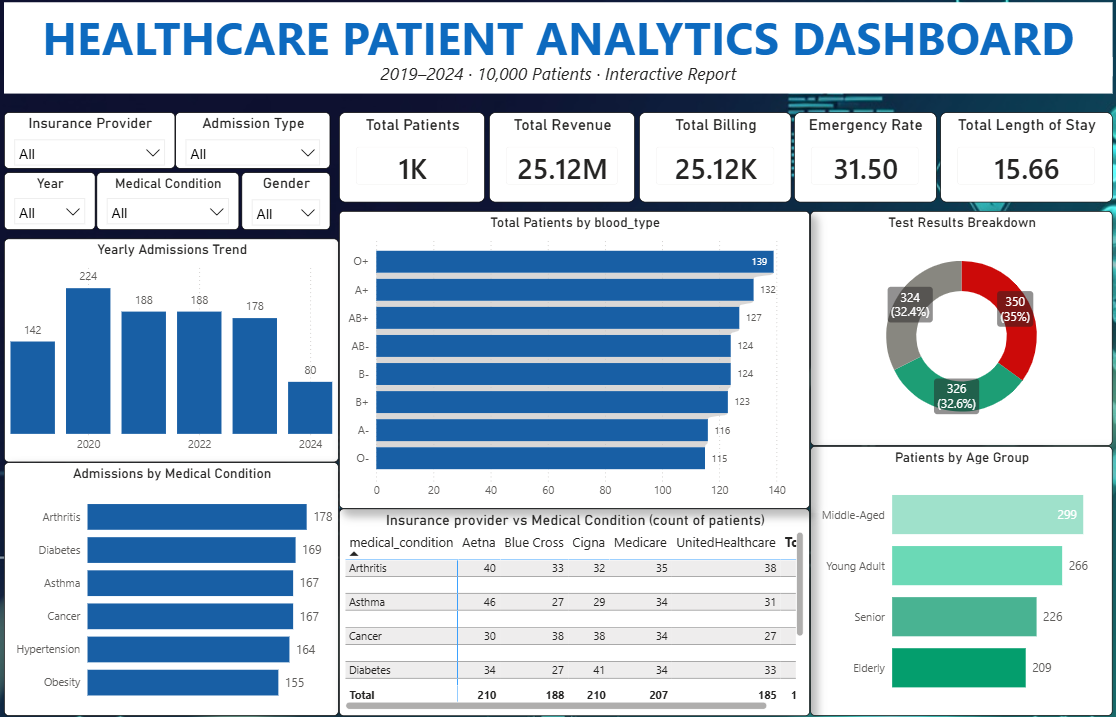

What the dashboard file says about the page in this screenshot:
{"tool":"powerbi","page":{"name":"Overview","canvas":[1420,920],"ordinal":0},"visuals":[{"type":"textbox","box":[24.7,20,1367.4,91],"z":0},{"type":"textbox","box":[24.7,87.9,1367.4,44.7],"z":1000},{"type":"slicer","title":"Year","fields":{"Values":["DateTable.Year"]},"box":[24.7,229.7,112.5,70.9],"z":2000},{"type":"slicer","title":"Medical Condition","fields":{"Values":["healthcare_final.medical_condition"]},"box":[139.5,229.7,175.7,70.9],"z":3000},{"type":"slicer","title":"Admission Type","fields":{"Values":["healthcare_final.admission_type"]},"box":[235.9,155.7,191.2,69.4],"z":4000},{"type":"slicer","title":"Gender","fields":{"Values":["healthcare_final.gender"]},"box":[317.6,229.7,109.5,70.9],"z":5000},{"type":"slicer","title":"Insurance Provider ","fields":{"Values":["healthcare_final.insurance_provider"]},"box":[24.7,155.7,211.2,69.4],"z":6000},{"type":"cardVisual","title":"Total Patients ","fields":{"Data":["healthcare_final.Total Patients"]},"box":[437.8,155.7,180.4,111],"z":7000},{"type":"cardVisual","title":"Total Revenue ","fields":{"Data":["healthcare_final.Total Revenue"]},"box":[622.8,155.7,180.4,111],"z":8000},{"type":"cardVisual","title":"Total Billing ","fields":{"Data":["healthcare_final.Avg Billing"]},"box":[807.8,155.7,188.1,111],"z":9000},{"type":"cardVisual","title":"Total Length of Stay ","fields":{"Data":["healthcare_final.Avg Length of Stay"]},"box":[1179.3,155.7,212.7,111],"z":10000},{"type":"cardVisual","title":"Emergency Rate","fields":{"Data":["healthcare_final.Emergency Rate %"]},"box":[998.9,155.7,175.7,111],"z":11000},{"type":"columnChart","title":"Yearly Admissions Trend","fields":{"Category":["DateTable.Year"],"Y":["healthcare_final.Total Patients"]},"box":[24.7,311.4,413.1,275.9],"z":12000},{"type":"donutChart","title":"Test Results Breakdown","fields":{"Y":["healthcare_final.Total Patients"],"Category":["healthcare_final.test_results"]},"box":[1019,277.5,373.1,289.8],"z":13000},{"type":"clusteredBarChart","title":"Admissions by Medical Condition","fields":{"Category":["healthcare_final.medical_condition"],"Y":["healthcare_final.Total Patients"]},"box":[24.7,587.3,413.1,312.9],"z":14000},{"type":"clusteredBarChart","title":"Patients by Age Group","fields":{"Category":["healthcare_final.age_group"],"Y":["healthcare_final.Total Patients"]},"box":[1019,567.3,373.1,333],"z":16000},{"type":"pivotTable","title":"Insurance provider vs Medical Condition (count of patients)","fields":{"Rows":["healthcare_final.medical_condition"],"Columns":["healthcare_final.insurance_provider"],"Values":["healthcare_final.Total Patients"]},"box":[437.8,644.4,581.2,255.9],"z":18000},{"type":"barChart","fields":{"Category":["healthcare_final.blood_type"],"Y":["healthcare_final.Total Patients"]},"box":[437.8,277.5,581.2,366.9],"z":19000}]}

Visuals, with their boxes in screenshot pixels (x1, y1, x2, y2), scaled from the page's 1420x920 canvas onto the 1116x717 screenshot:
textbox: {"left": 19, "top": 16, "right": 1094, "bottom": 87}
textbox: {"left": 19, "top": 69, "right": 1094, "bottom": 103}
"Year" slicer: {"left": 19, "top": 179, "right": 108, "bottom": 234}
"Medical Condition" slicer: {"left": 110, "top": 179, "right": 248, "bottom": 234}
"Admission Type" slicer: {"left": 185, "top": 121, "right": 336, "bottom": 175}
"Gender" slicer: {"left": 250, "top": 179, "right": 336, "bottom": 234}
"Insurance Provider " slicer: {"left": 19, "top": 121, "right": 185, "bottom": 175}
"Total Patients " cardVisual: {"left": 344, "top": 121, "right": 486, "bottom": 208}
"Total Revenue " cardVisual: {"left": 489, "top": 121, "right": 631, "bottom": 208}
"Total Billing " cardVisual: {"left": 635, "top": 121, "right": 783, "bottom": 208}
"Total Length of Stay " cardVisual: {"left": 927, "top": 121, "right": 1094, "bottom": 208}
"Emergency Rate" cardVisual: {"left": 785, "top": 121, "right": 923, "bottom": 208}
"Yearly Admissions Trend" columnChart: {"left": 19, "top": 243, "right": 344, "bottom": 458}
"Test Results Breakdown" donutChart: {"left": 801, "top": 216, "right": 1094, "bottom": 442}
"Admissions by Medical Condition" clusteredBarChart: {"left": 19, "top": 458, "right": 344, "bottom": 702}
"Patients by Age Group" clusteredBarChart: {"left": 801, "top": 442, "right": 1094, "bottom": 702}
"Insurance provider vs Medical Condition (count of patients)" pivotTable: {"left": 344, "top": 502, "right": 801, "bottom": 702}
barChart - healthcare_final.blood_type x healthcare_final.Total Patients: {"left": 344, "top": 216, "right": 801, "bottom": 502}
